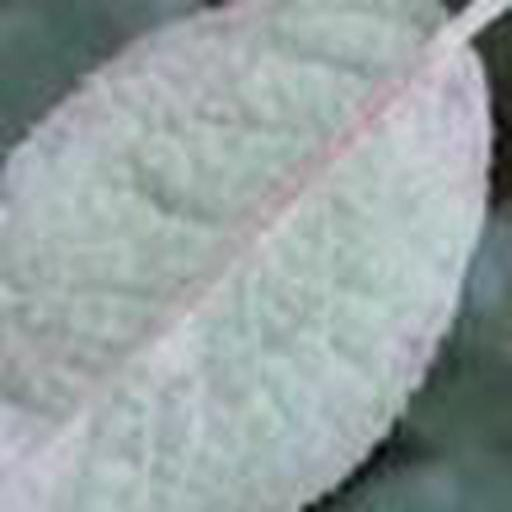powdery_mildew: (0, 0, 510, 512)
